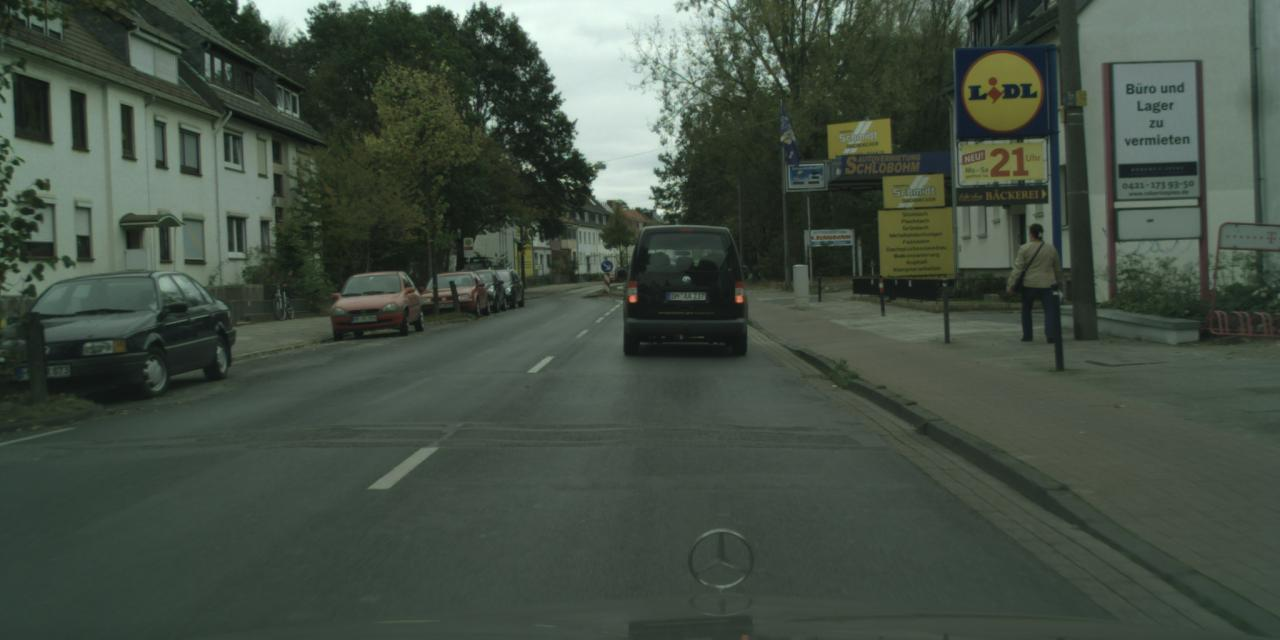ped: (1012, 222, 1062, 342)
